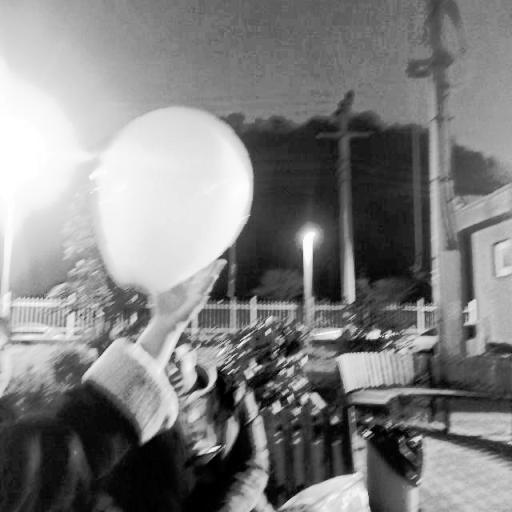balloon: (90, 102, 254, 296)
